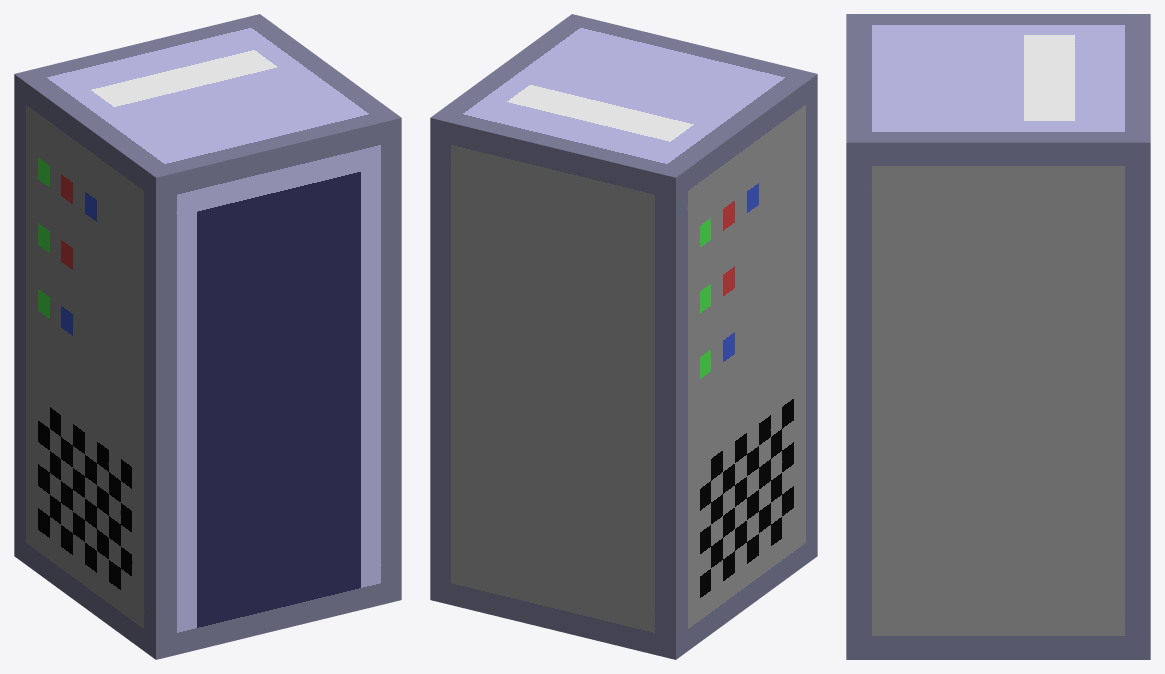
Rendered from hitek_tile_035.gltf.
3 views of the same model, side by side, from view 1: azimuth 30°, elevation 25°; view 2: azimuth 150°, elevation 25°; view 3: azimuth 270°, elevation 25° (orthographic). The views are drawn at different scales.
Parts seen in each view (by area): view 1: hitek_tile_035; view 2: hitek_tile_035; view 3: hitek_tile_035.
Boxes of the visible parts, bbox=[...] form: hitek_tile_035: bbox=[14, 14, 401, 659]; hitek_tile_035: bbox=[430, 14, 817, 659]; hitek_tile_035: bbox=[846, 14, 1150, 659].
Bounding box in the file's own units: 16 × 30 × 16.
Materials: 1 (1 with a texture image).
